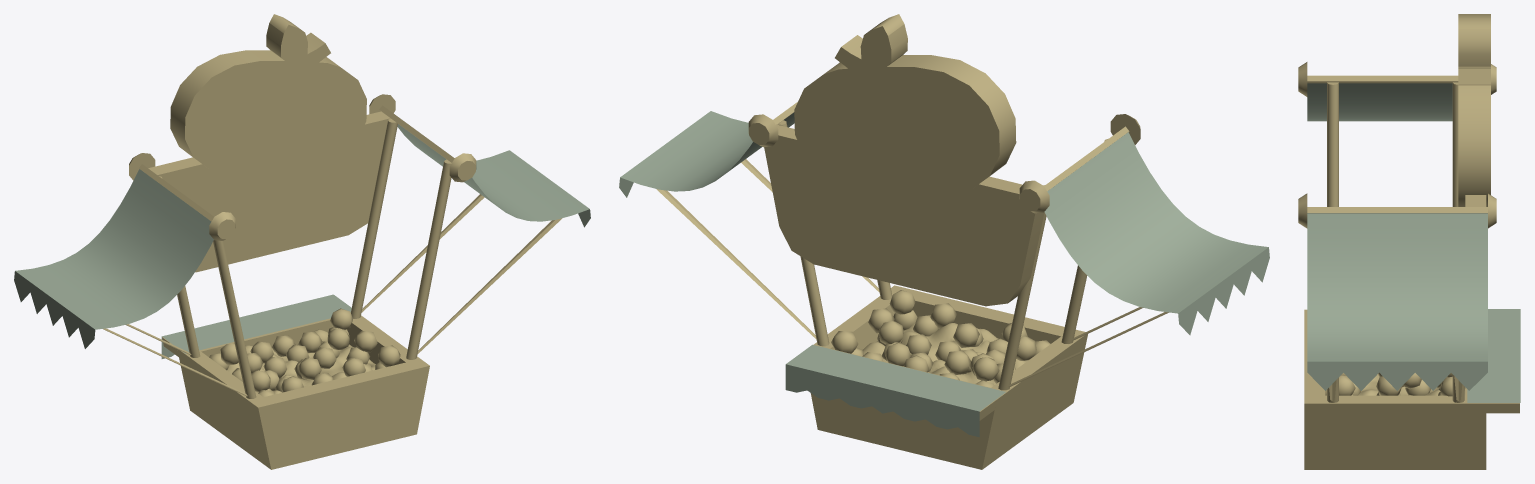
File: Puesto de jugos.fbx
The picture shows the model from 3 angles, left to right: view 1: azimuth 30°, elevation 25°; view 2: azimuth 150°, elevation 25°; view 3: azimuth 270°, elevation 25°; orthographic projection. The views are drawn at different scales.
Visible parts, largest first — view 1: polySurface48, polySurface62, polySurface60, polySurface47, polySurface69, polySurface56, polySurface67, polySurface66, polySurface55, polySurface54, polySurface72, polySurface57 (+3 smaller); view 2: polySurface48, polySurface47, polySurface60, polySurface62, polySurface56, polySurface69, polySurface54, polySurface57, polySurface67, polySurface73, polySurface55, polySurface71 (+2 smaller); view 3: polySurface69, polySurface62, polySurface48, polySurface60, polySurface56, polySurface55, polySurface61, polySurface70, polySurface57, polySurface54, polySurface58, polySurface68 (+5 smaller).
Part boxes in pixels (x1,y1,x2,y2): polySurface48: (170, 14, 366, 180); polySurface62: (177, 315, 429, 469); polySurface60: (14, 169, 213, 348); polySurface47: (148, 111, 390, 272); polySurface69: (397, 124, 590, 227); polySurface56: (161, 294, 351, 358); polySurface67: (351, 118, 397, 318); polySurface66: (406, 159, 451, 359); polySurface55: (213, 240, 256, 398); polySurface54: (227, 341, 375, 394); polySurface72: (417, 218, 562, 354); polySurface57: (159, 176, 200, 357); polySurface48: (794, 14, 1016, 201); polySurface47: (764, 124, 1044, 306); polySurface60: (1044, 132, 1269, 335); polySurface62: (810, 285, 1087, 469); polySurface56: (785, 344, 1005, 437); polySurface69: (619, 111, 794, 197); polySurface54: (862, 322, 1027, 384); polySurface57: (998, 185, 1046, 390); polySurface67: (777, 120, 829, 346); polySurface73: (656, 189, 816, 339); polySurface55: (1061, 138, 1108, 343); polySurface71: (748, 114, 778, 147); polySurface69: (1307, 213, 1487, 390); polySurface62: (1304, 309, 1486, 469); polySurface48: (1458, 14, 1490, 206); polySurface60: (1307, 83, 1452, 121); polySurface56: (1467, 309, 1520, 402); polySurface55: (1327, 82, 1338, 206); polySurface61: (1307, 75, 1458, 83); polySurface70: (1307, 207, 1487, 213); polySurface57: (1452, 82, 1458, 206); polySurface54: (1325, 374, 1465, 395); polySurface58: (1486, 403, 1519, 413); polySurface68: (1298, 193, 1307, 228).
Size of the model in its own units: 166 by 119 by 56.91.
